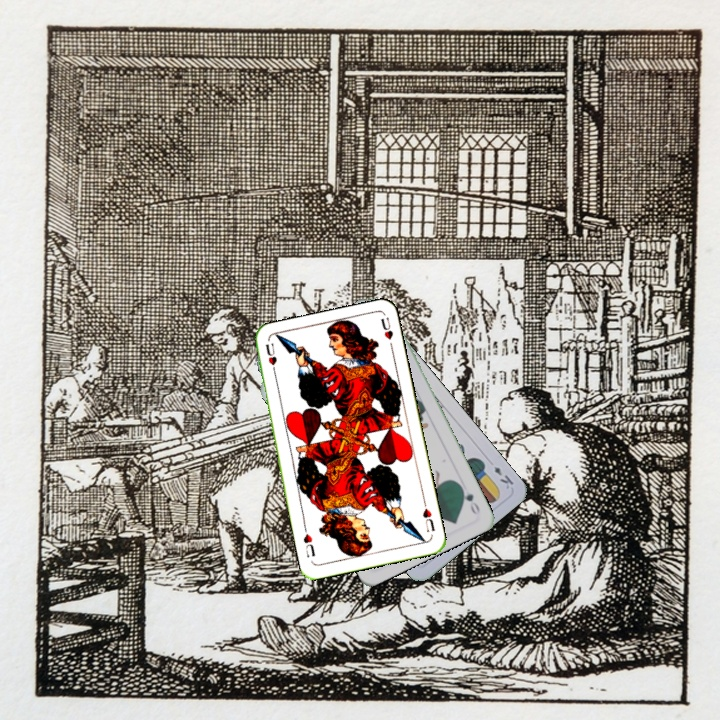EK: (490, 462, 516, 492)
GO: (456, 481, 482, 517)
HU: (419, 498, 438, 535), (262, 339, 279, 379)
